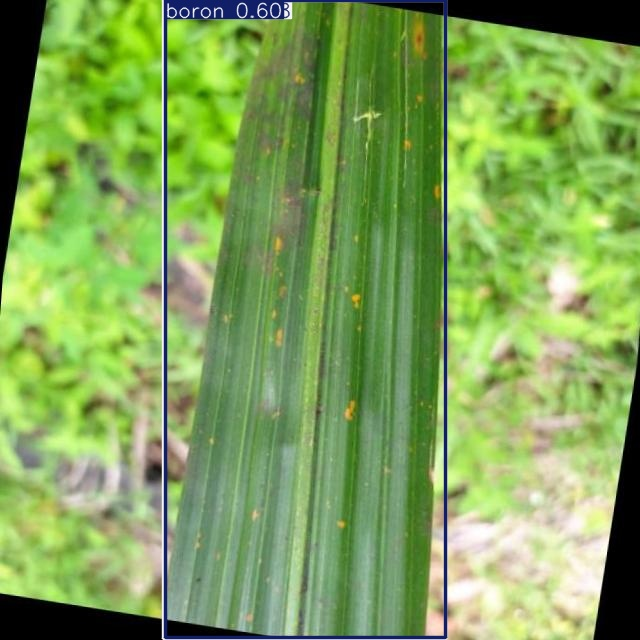Kalium: (163, 0, 445, 639)
nitrogen: (166, 0, 445, 637)
